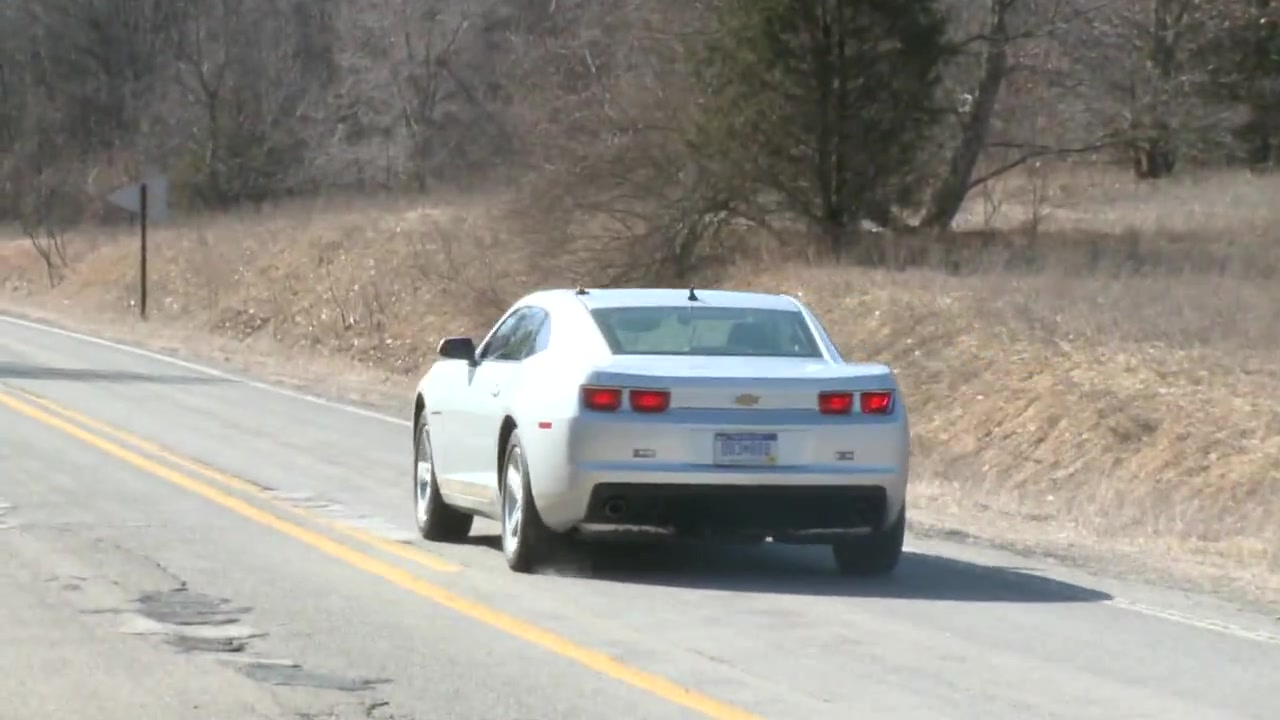car: (412, 280, 914, 584)
